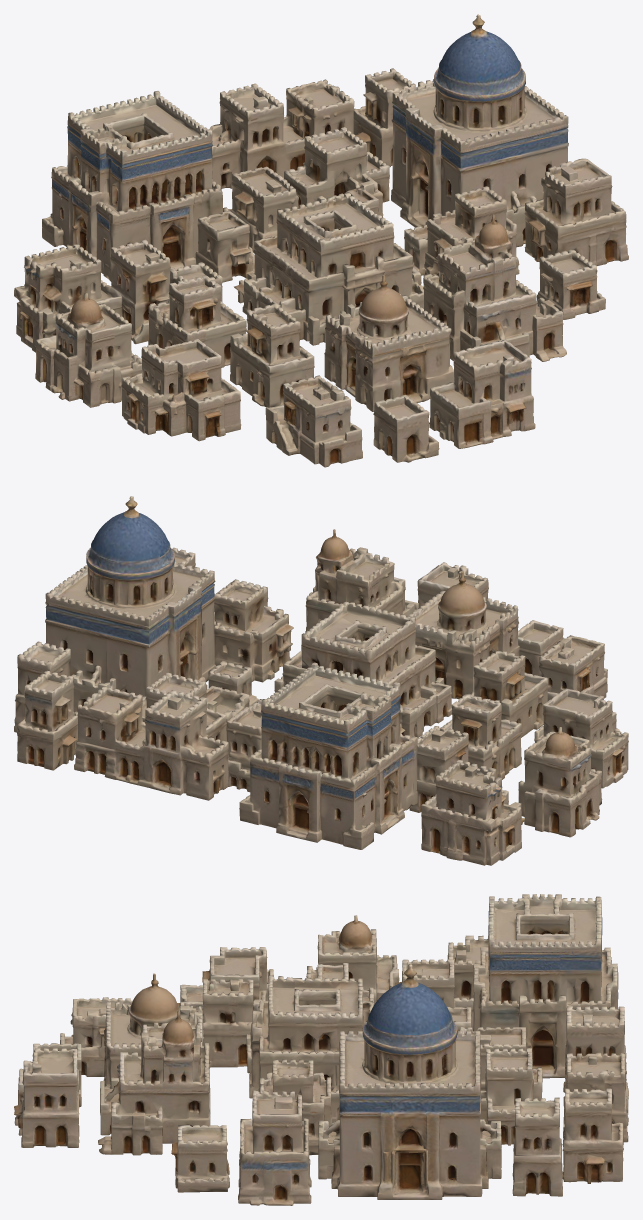
File: Medieval Town (Middle Eastern).fbx
3 renders of one model, top to bottom at view 1: azimuth 30°, elevation 25°; view 2: azimuth 150°, elevation 25°; view 3: azimuth 270°, elevation 25°, orthographic. The views are drawn at different scales.
Visible parts, largest first — view 1: tripo_node_49c87bbb; view 2: tripo_node_49c87bbb; view 3: tripo_node_49c87bbb.
Boxes of the visible parts, <box> form: tripo_node_49c87bbb: <box>14,14,628,467</box>; tripo_node_49c87bbb: <box>14,496,628,865</box>; tripo_node_49c87bbb: <box>14,894,628,1205</box>.
Size of the model in its own units: 1 by 0.4573 by 0.9924.
